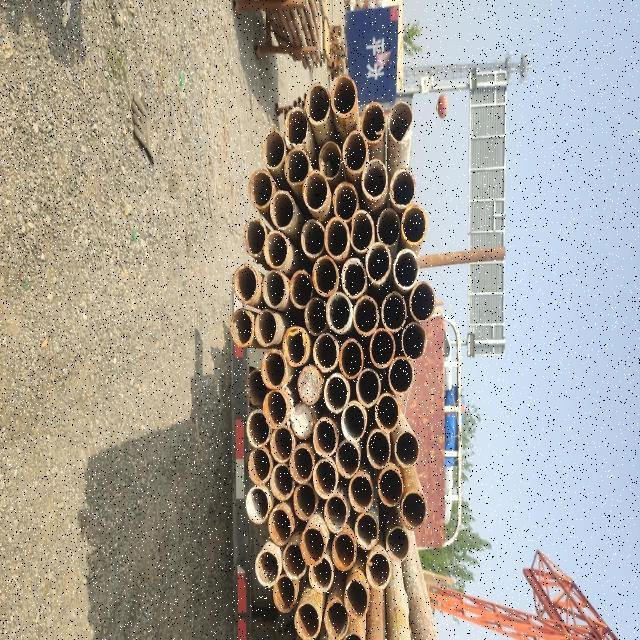pipe: (284, 104, 312, 152), (360, 98, 388, 145), (388, 99, 416, 145), (342, 129, 370, 175), (361, 156, 389, 202), (248, 166, 275, 212), (338, 334, 365, 380), (332, 74, 360, 118), (390, 165, 418, 209), (302, 168, 330, 212), (312, 254, 340, 298), (353, 292, 381, 336), (326, 290, 354, 334), (282, 323, 310, 367), (323, 371, 351, 415), (350, 207, 376, 254), (297, 362, 324, 407), (260, 348, 288, 391), (325, 214, 351, 260), (365, 240, 392, 284), (409, 280, 436, 324), (332, 180, 360, 222), (341, 256, 369, 298), (401, 319, 429, 361), (369, 326, 397, 368), (313, 331, 341, 373), (262, 388, 290, 430), (340, 402, 368, 444), (306, 81, 332, 126), (394, 247, 421, 290), (261, 128, 287, 172), (318, 138, 344, 182), (262, 266, 288, 310), (366, 428, 392, 472), (232, 263, 259, 305), (284, 147, 312, 187), (400, 204, 428, 244), (388, 354, 416, 394), (401, 490, 429, 530), (293, 600, 321, 640), (270, 187, 296, 230), (376, 205, 402, 248), (356, 366, 382, 409), (336, 438, 362, 481), (300, 524, 326, 567), (290, 266, 315, 310), (300, 216, 326, 258), (263, 228, 289, 270), (382, 290, 408, 332), (254, 307, 280, 349), (230, 306, 256, 348), (374, 392, 400, 434), (312, 418, 338, 460), (246, 408, 272, 450), (378, 466, 404, 508), (348, 472, 374, 514), (344, 577, 370, 619), (324, 597, 350, 639), (283, 539, 308, 582), (246, 368, 272, 408), (395, 428, 421, 468), (245, 484, 271, 524), (268, 505, 294, 545), (255, 548, 281, 588), (332, 531, 358, 571), (308, 555, 335, 593), (290, 401, 316, 440), (269, 425, 295, 464), (354, 512, 380, 551), (304, 294, 328, 336), (314, 458, 338, 500), (290, 442, 314, 484), (324, 492, 348, 534), (242, 216, 267, 256), (247, 446, 272, 486), (367, 550, 392, 590), (270, 462, 296, 500), (293, 480, 317, 520), (273, 574, 297, 614), (386, 524, 410, 562)
